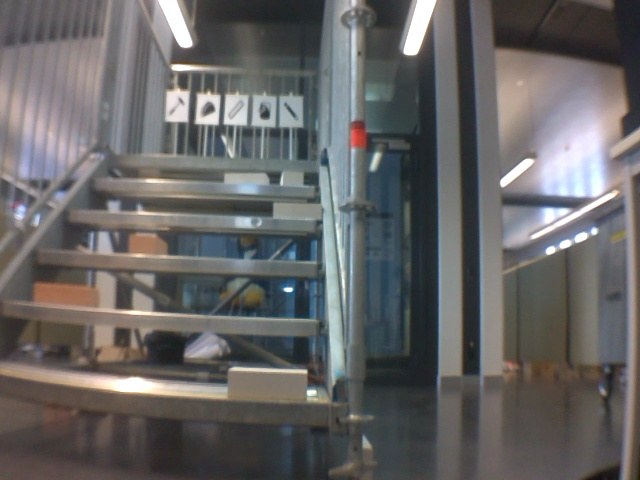brick: (228, 368, 307, 400), (34, 284, 98, 308), (129, 235, 167, 255), (274, 204, 321, 219), (225, 173, 269, 185), (281, 171, 302, 186)
bucket: (256, 100, 273, 121)
edge: (1, 373, 327, 425), (1, 302, 325, 333), (36, 250, 322, 277), (63, 210, 323, 230), (93, 178, 319, 196), (113, 155, 318, 170)
hammer: (166, 96, 187, 117)
pencil: (281, 100, 300, 124)
ruler: (227, 99, 246, 120)
stairs: (2, 2, 372, 474)
steps: (1, 151, 335, 432)
taco: (199, 97, 218, 120)
